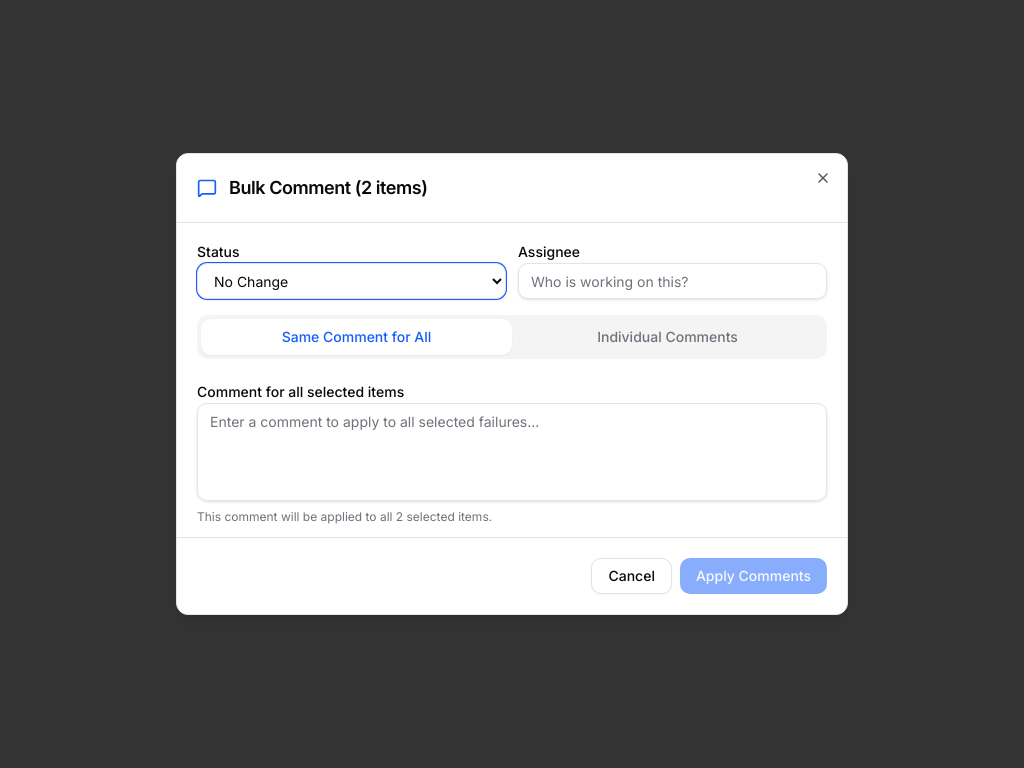
Scenario: BulkCommentModal › Mode switching › should preserve shared comment when switching modes and back
Type "My comment" into the text box with test id "shared-comment-input".
click(512, 452); type("My comment")  # box top-left (197, 403), bottom-right (827, 501)
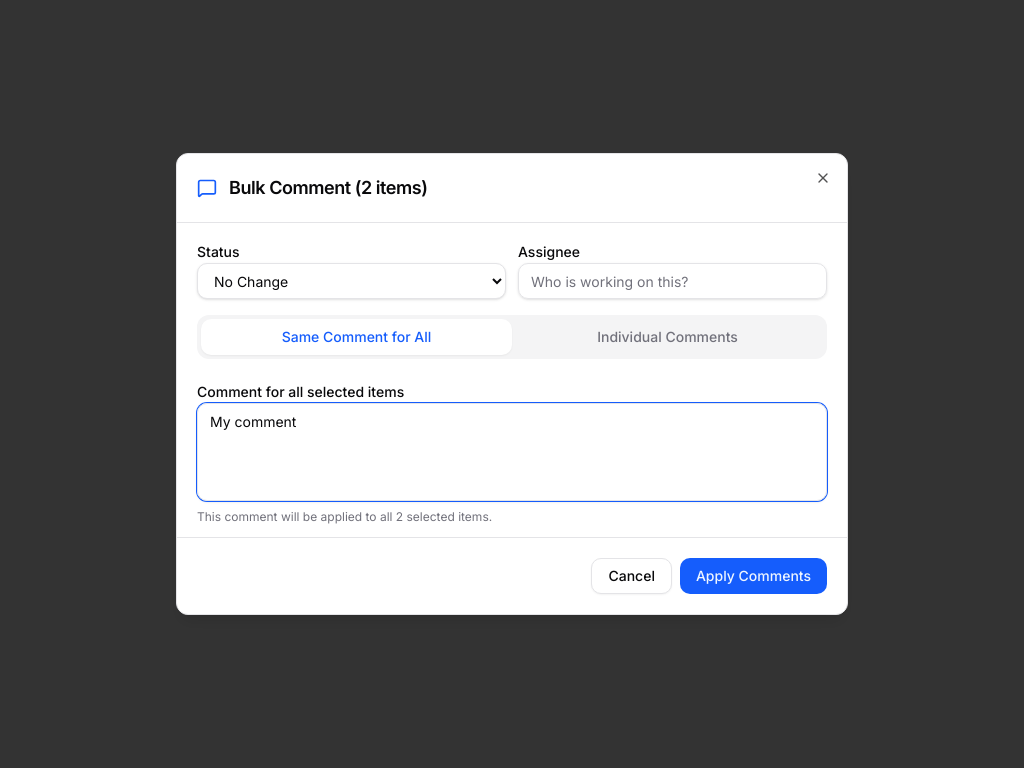
Click the button with test id "mode-individual".
click(668, 337)  # box top-left (512, 319), bottom-right (823, 355)
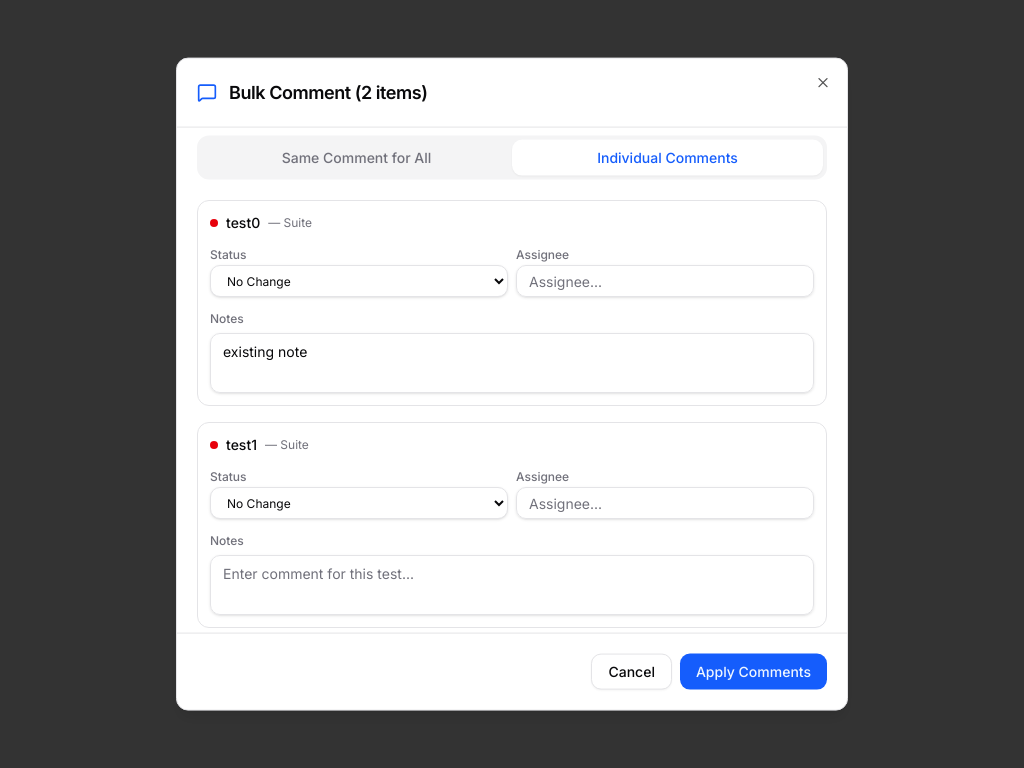
Click the button with test id "mode-same".
click(356, 158)  # box top-left (201, 140), bottom-right (512, 176)
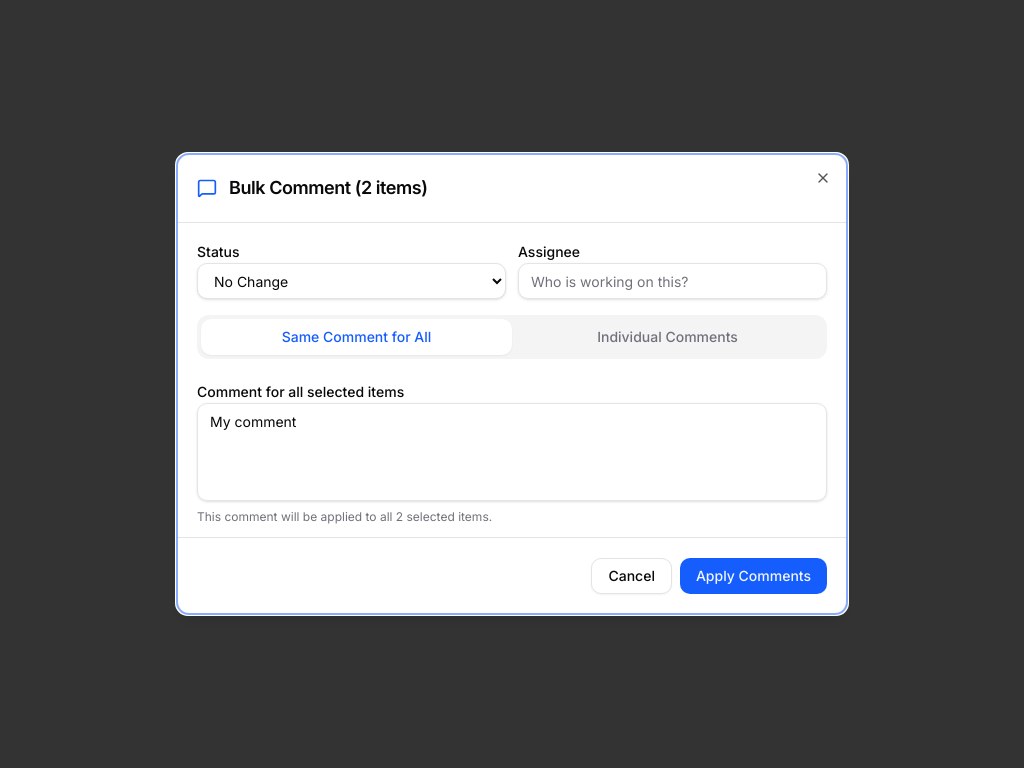
Now the text box with test id "shared-comment-input" holds "My comment", box top-left (197, 403), bottom-right (827, 501)
